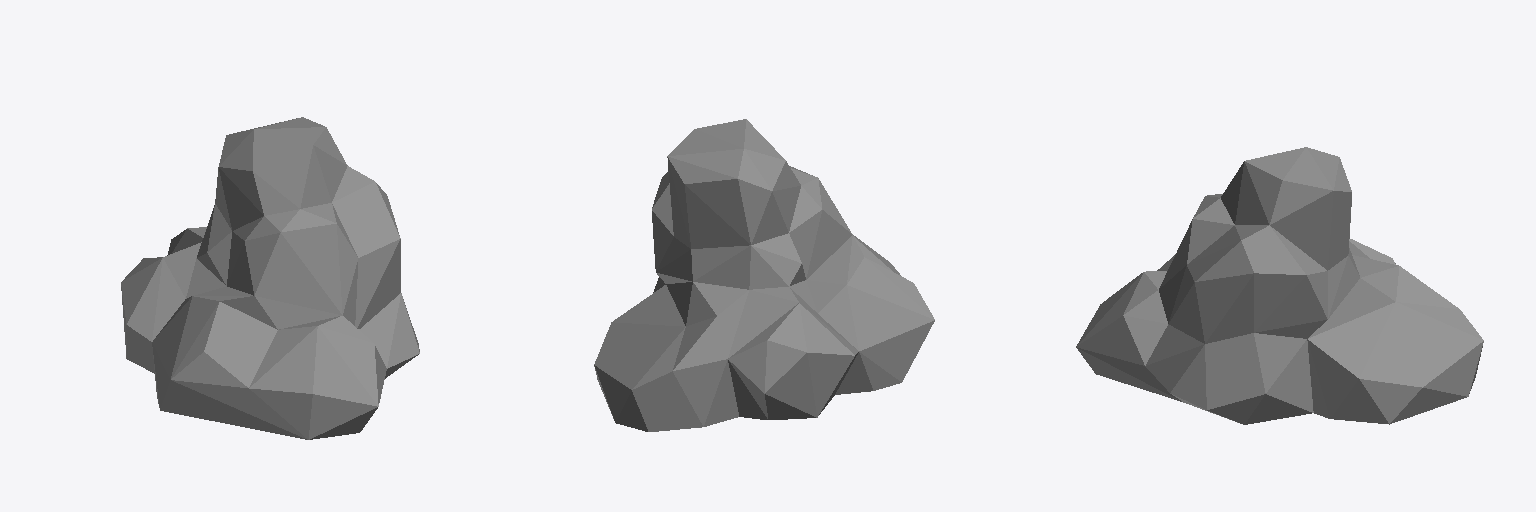
The model's file is Roca_08.obj.
The picture shows the model from 3 angles: view 1: azimuth 30°, elevation 25°; view 2: azimuth 150°, elevation 25°; view 3: azimuth 270°, elevation 25°; orthographic projection.
Visible parts, largest first — view 1: Roca_07; view 2: Roca_07; view 3: Roca_07.
Boxes of the visible parts, x1=… form: Roca_07: x1=121, y1=117, x2=419, y2=439; Roca_07: x1=594, y1=119, x2=934, y2=431; Roca_07: x1=1076, y1=147, x2=1483, y2=424.
Size of the model in its own units: 22.91 by 19.8 by 32.02.